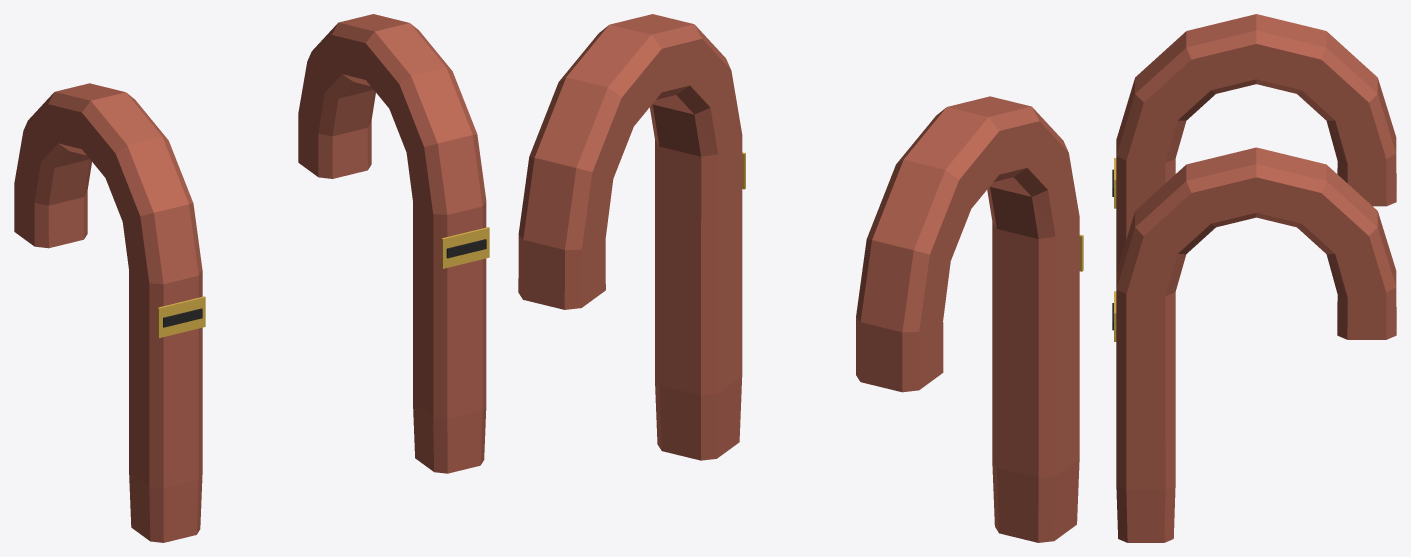
The model's file is ladder_top.glb.
3 views of the same model, side by side, from view 1: azimuth 30°, elevation 25°; view 2: azimuth 150°, elevation 25°; view 3: azimuth 270°, elevation 25° (orthographic). The views are drawn at different scales.
Parts seen in each view (by area): view 1: Keep_Mesh; view 2: Keep_Mesh; view 3: Keep_Mesh.
Part boxes in pixels (bbox=[...]): Keep_Mesh: bbox=[14, 14, 489, 542]; Keep_Mesh: bbox=[518, 14, 1083, 542]; Keep_Mesh: bbox=[1112, 14, 1396, 542].
Size of the model in its own units: 0.95 by 1.05 by 0.72.
